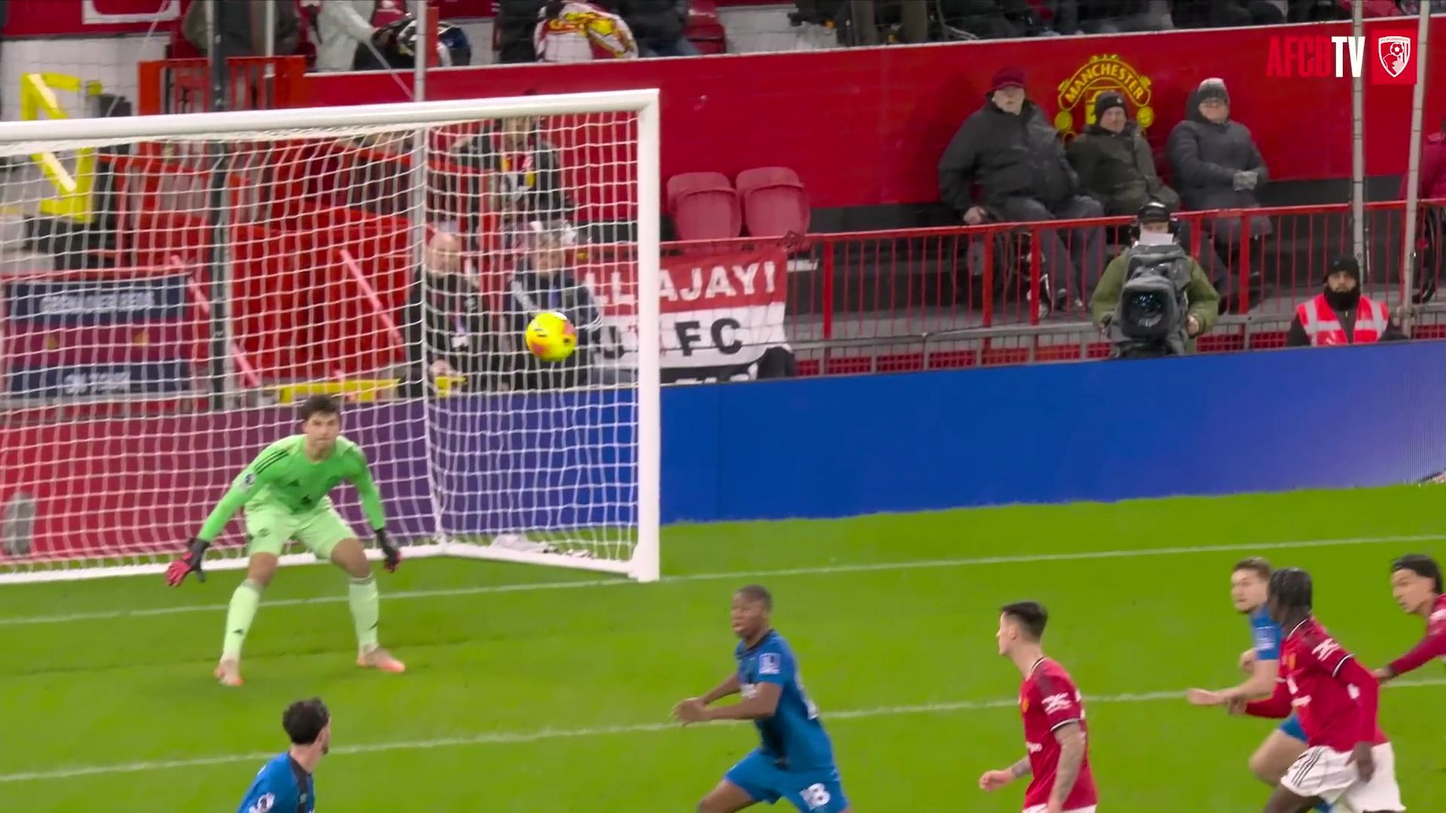football: (525, 312, 576, 362)
player: (166, 395, 404, 685), (1229, 568, 1404, 812), (673, 586, 850, 812), (979, 601, 1097, 812), (1187, 556, 1283, 705), (237, 698, 330, 812), (1375, 554, 1445, 681)
